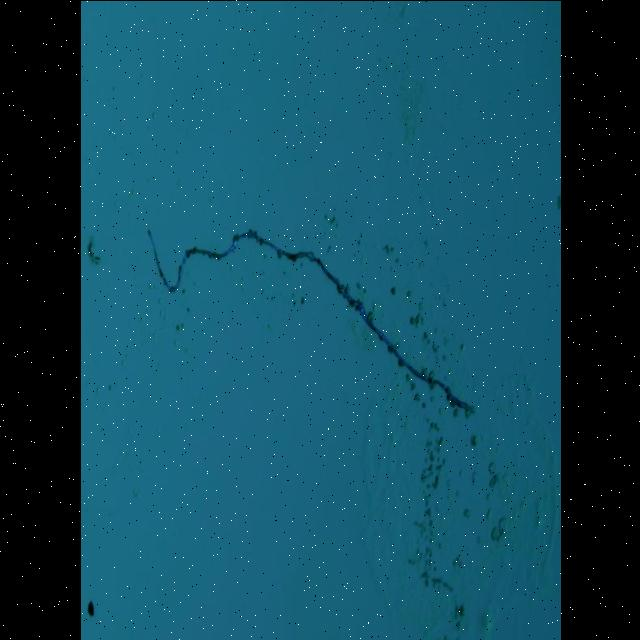Fibre: (147, 222, 476, 420)
